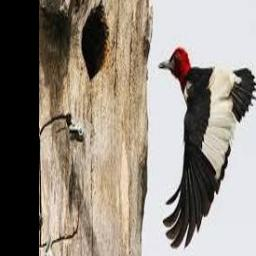Woodpecker: (159, 48, 256, 249)
